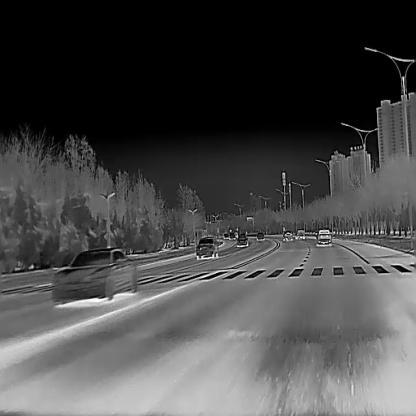car: (51, 246, 137, 299), (195, 236, 218, 258), (316, 229, 332, 245), (236, 233, 247, 246), (294, 227, 305, 239), (283, 229, 292, 240), (256, 231, 264, 240), (228, 231, 235, 239), (223, 232, 228, 238)
